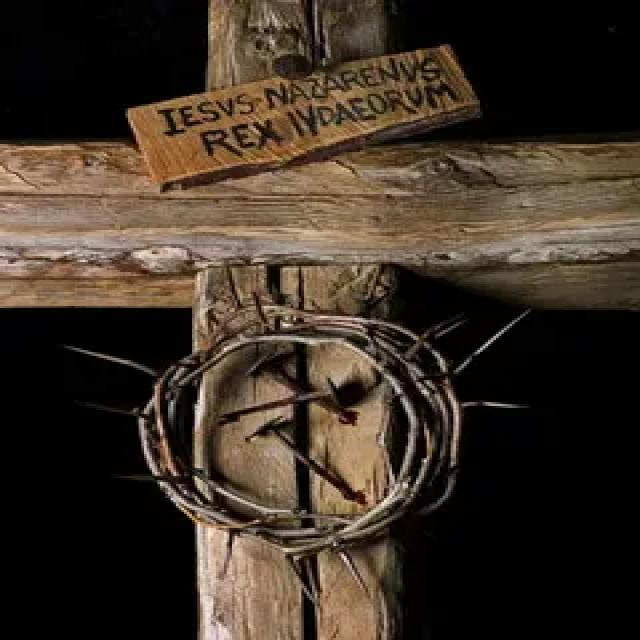crown: (116, 304, 494, 566)
